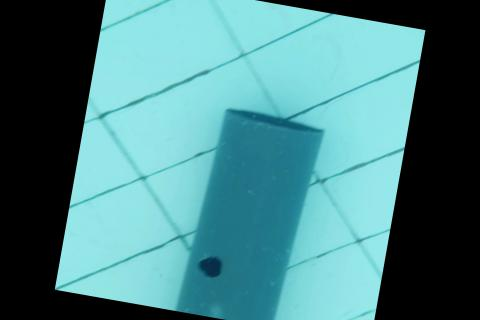kebocoran: (194, 252, 225, 279)
